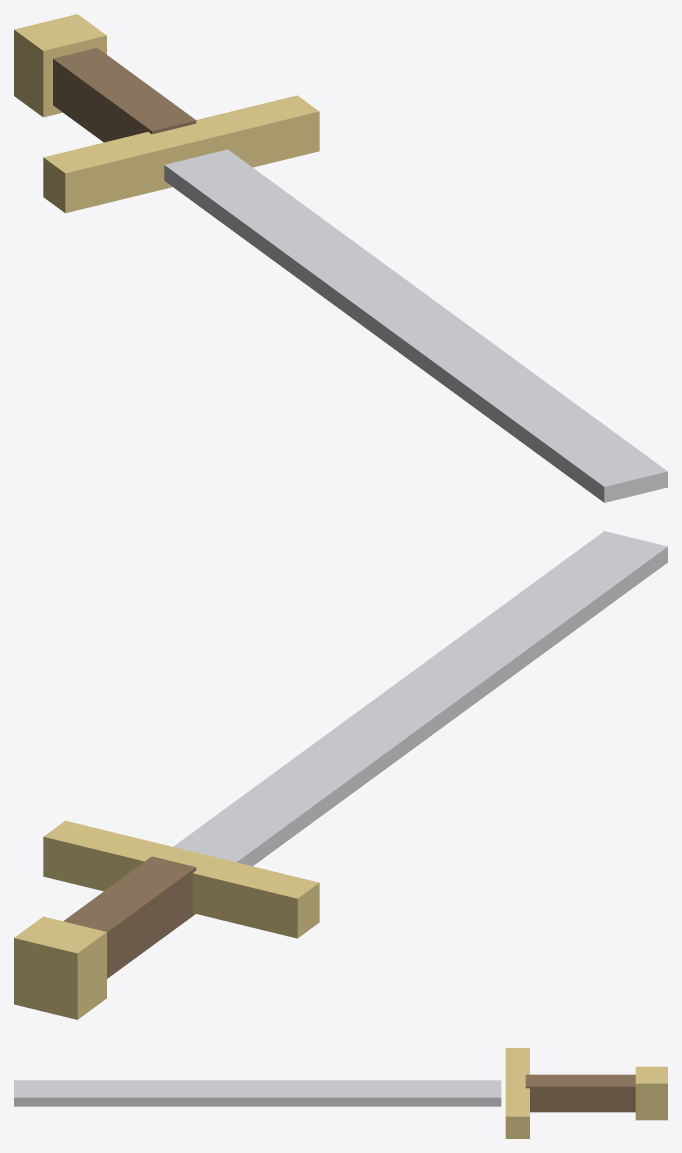
Rendered from sword.glb.
3 renders of one model, top to bottom at view 1: azimuth 30°, elevation 25°; view 2: azimuth 150°, elevation 25°; view 3: azimuth 270°, elevation 25°, orthographic. The views are drawn at different scales.
Visible parts, largest first — view 1: Sword; view 2: Sword; view 3: Sword.
Part boxes in pixels (x1,y1,x2,y2): Sword: (14, 14, 667, 502); Sword: (14, 531, 667, 1019); Sword: (14, 1048, 667, 1138).
Bounding box in the file's own units: 0.2 × 0.05 × 0.805.
